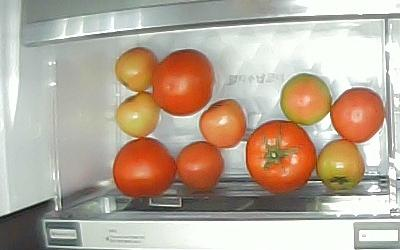tomato: (246, 120, 316, 195), (152, 49, 214, 117), (113, 138, 177, 198), (330, 88, 385, 143), (280, 73, 332, 126), (317, 138, 364, 193), (175, 141, 224, 192), (199, 99, 246, 149), (116, 91, 160, 137), (116, 47, 158, 92)
